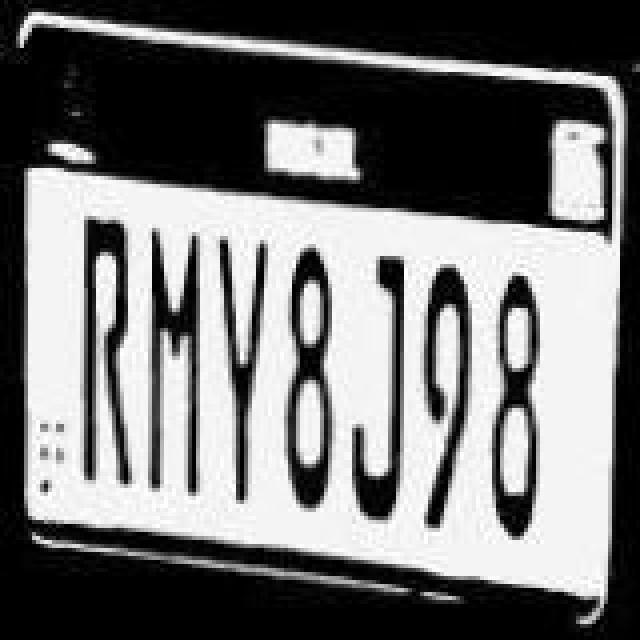8: (284, 252, 348, 520), (492, 280, 556, 544)
9: (418, 268, 486, 536)
J: (346, 264, 422, 532)
M: (144, 228, 216, 504)
R: (76, 216, 140, 488)
Y: (214, 240, 274, 516)
